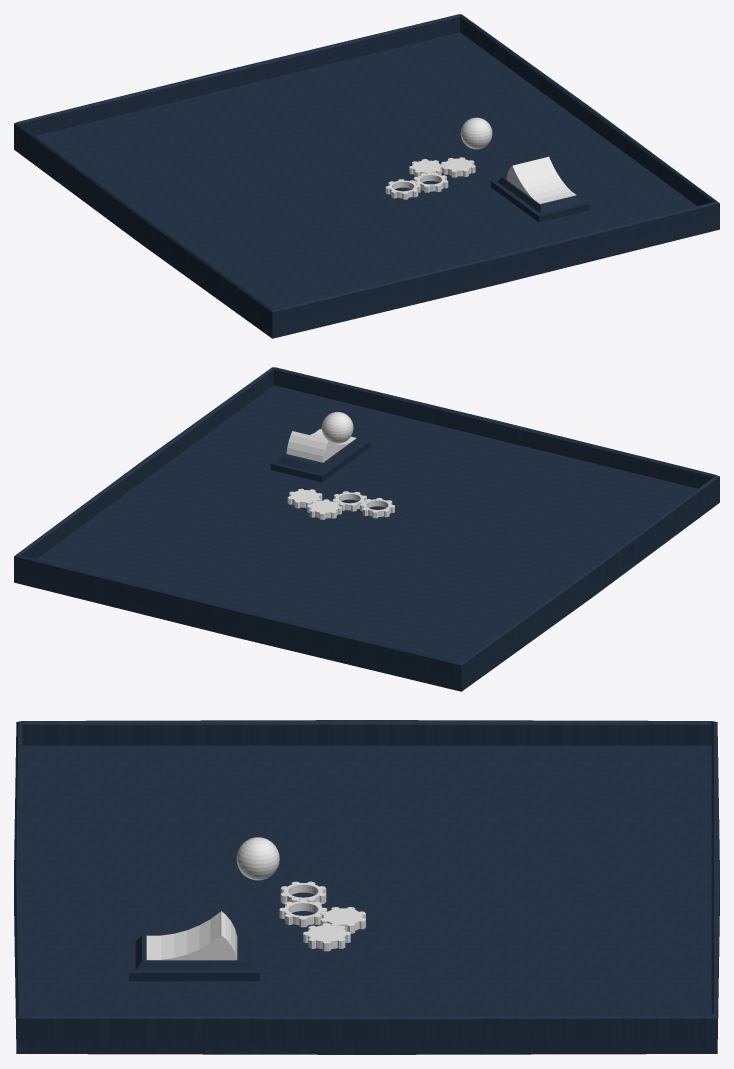
The model's file is GearLow5.glb.
3 views of the same model, one above another, from view 1: azimuth 30°, elevation 25°; view 2: azimuth 150°, elevation 25°; view 3: azimuth 270°, elevation 25° (orthographic). The views are drawn at different scales.
Parts seen in each view (by area): view 1: Plane, Button, Sphere, Gear4, Gear2; view 2: Plane, Button, Sphere, Gear3, Gear2; view 3: Plane, Button, Sphere, Gear4, Gear1, Gear3, Gear2.
Boxes of the visible parts, x1,y1,x2,y2 form: Plane: (14, 14, 719, 338); Button: (506, 156, 576, 204); Sphere: (460, 117, 492, 149); Gear4: (441, 157, 475, 177); Gear2: (385, 179, 420, 199); Plane: (14, 367, 719, 691); Button: (286, 429, 356, 462); Sphere: (321, 412, 353, 443); Gear3: (307, 499, 341, 519); Gear2: (360, 498, 394, 518); Plane: (14, 720, 719, 1054); Button: (146, 911, 237, 960); Sphere: (236, 837, 279, 880); Gear4: (303, 923, 350, 951); Gear1: (279, 899, 327, 927); Gear3: (320, 907, 365, 933); Gear2: (280, 881, 326, 903).
Size of the model in its own units: 32.72 by 6.67 by 32.72.
Materials: 1 (1 with a texture image).
